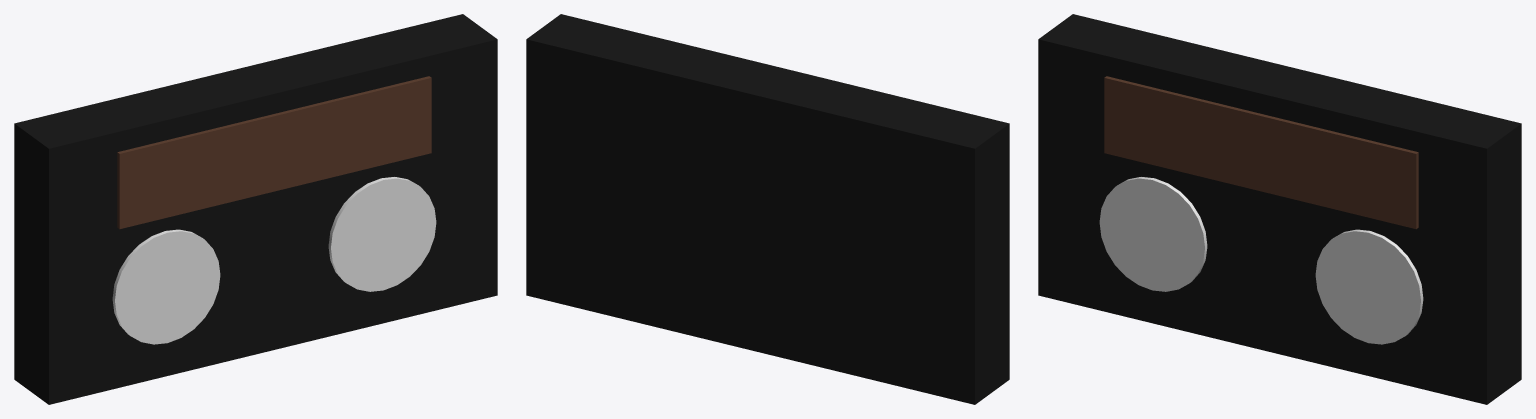
File: vhs-7.glb
3 renders of one model, left to right at view 1: azimuth 30°, elevation 25°; view 2: azimuth 150°, elevation 25°; view 3: azimuth 330°, elevation 25°, orthographic.
Bounding box in the file's own units: 0.187 × 0.102 × 0.0267.
